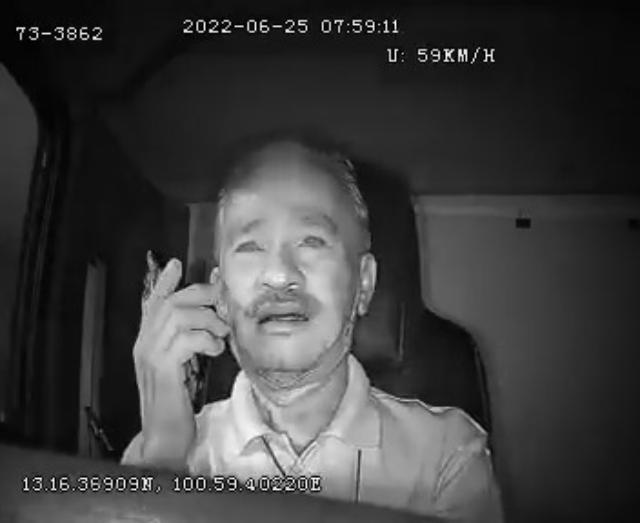PhoneUse: (138, 241, 208, 417)
SafeDriving: (227, 222, 271, 264), (290, 220, 336, 258)
